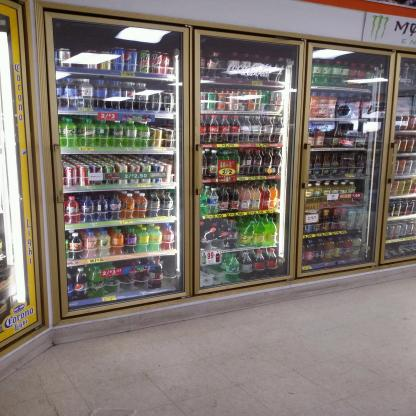empty_space: (120, 273, 134, 295), (164, 268, 176, 288), (202, 266, 212, 289), (216, 269, 224, 287)
